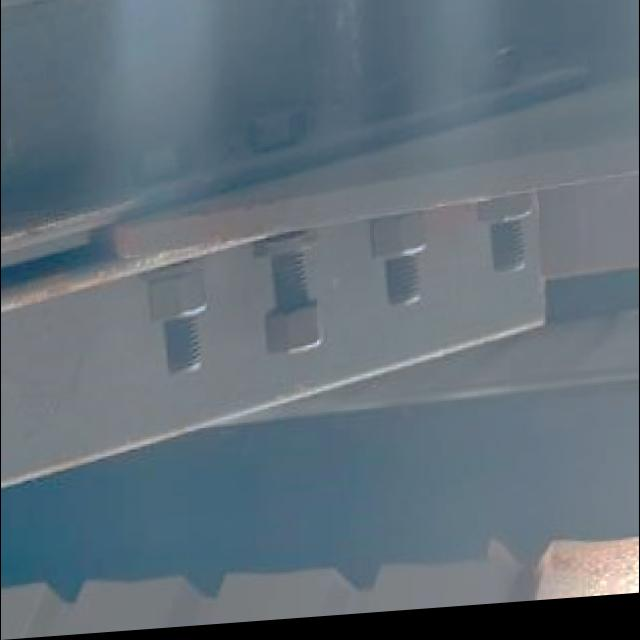Loose bolt: (260, 234, 322, 387)
Regular bolt: (375, 220, 441, 334), (479, 191, 545, 298)
